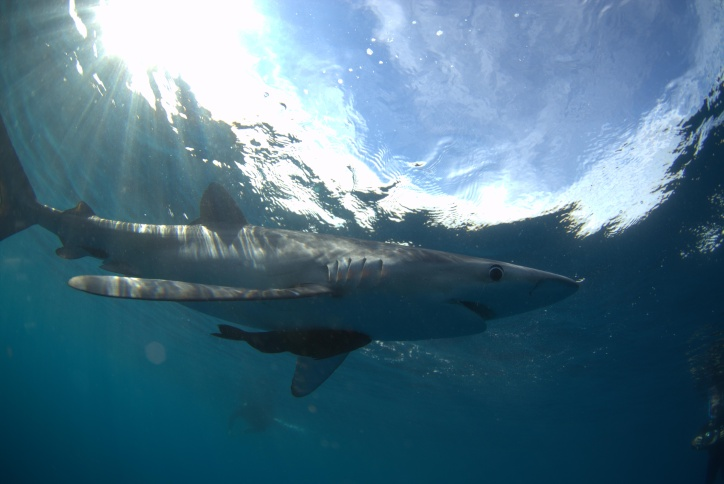Azul: (3, 99, 610, 434)
